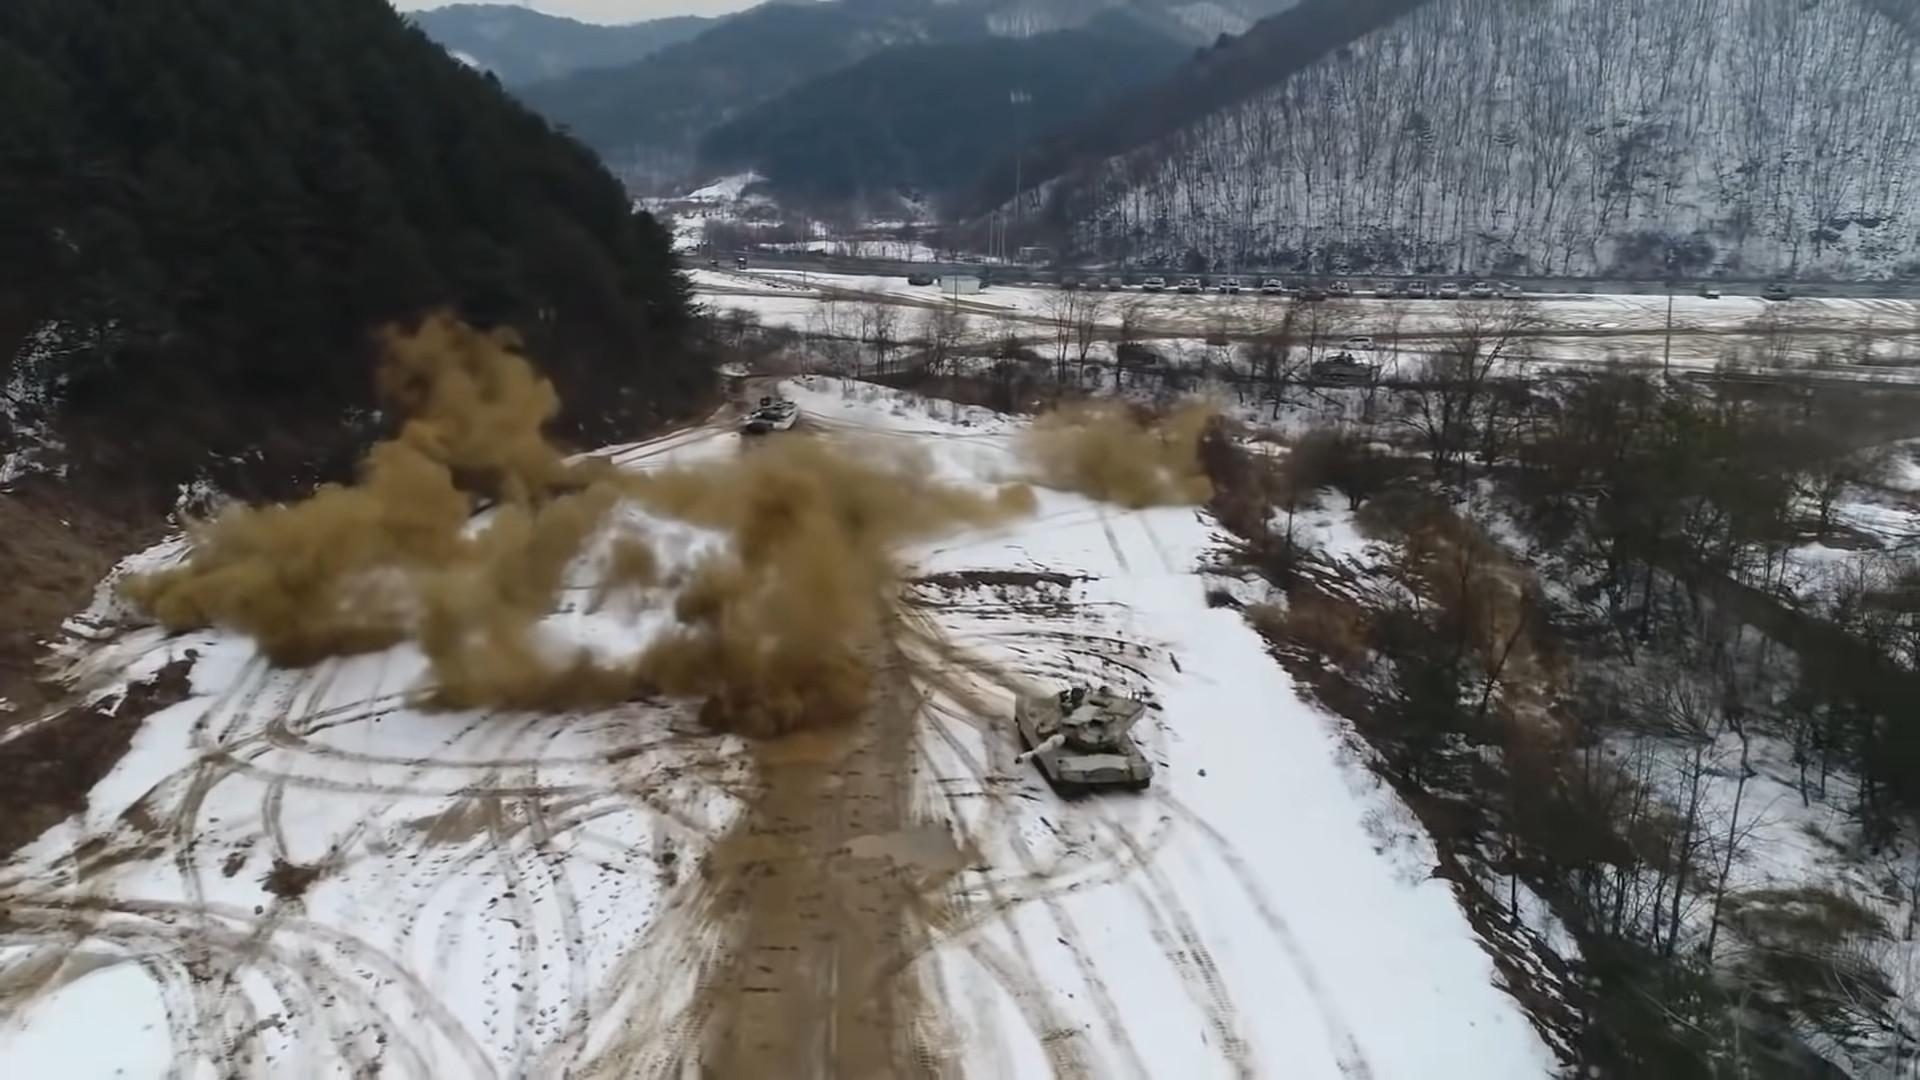tank: (1013, 686, 1154, 793)
